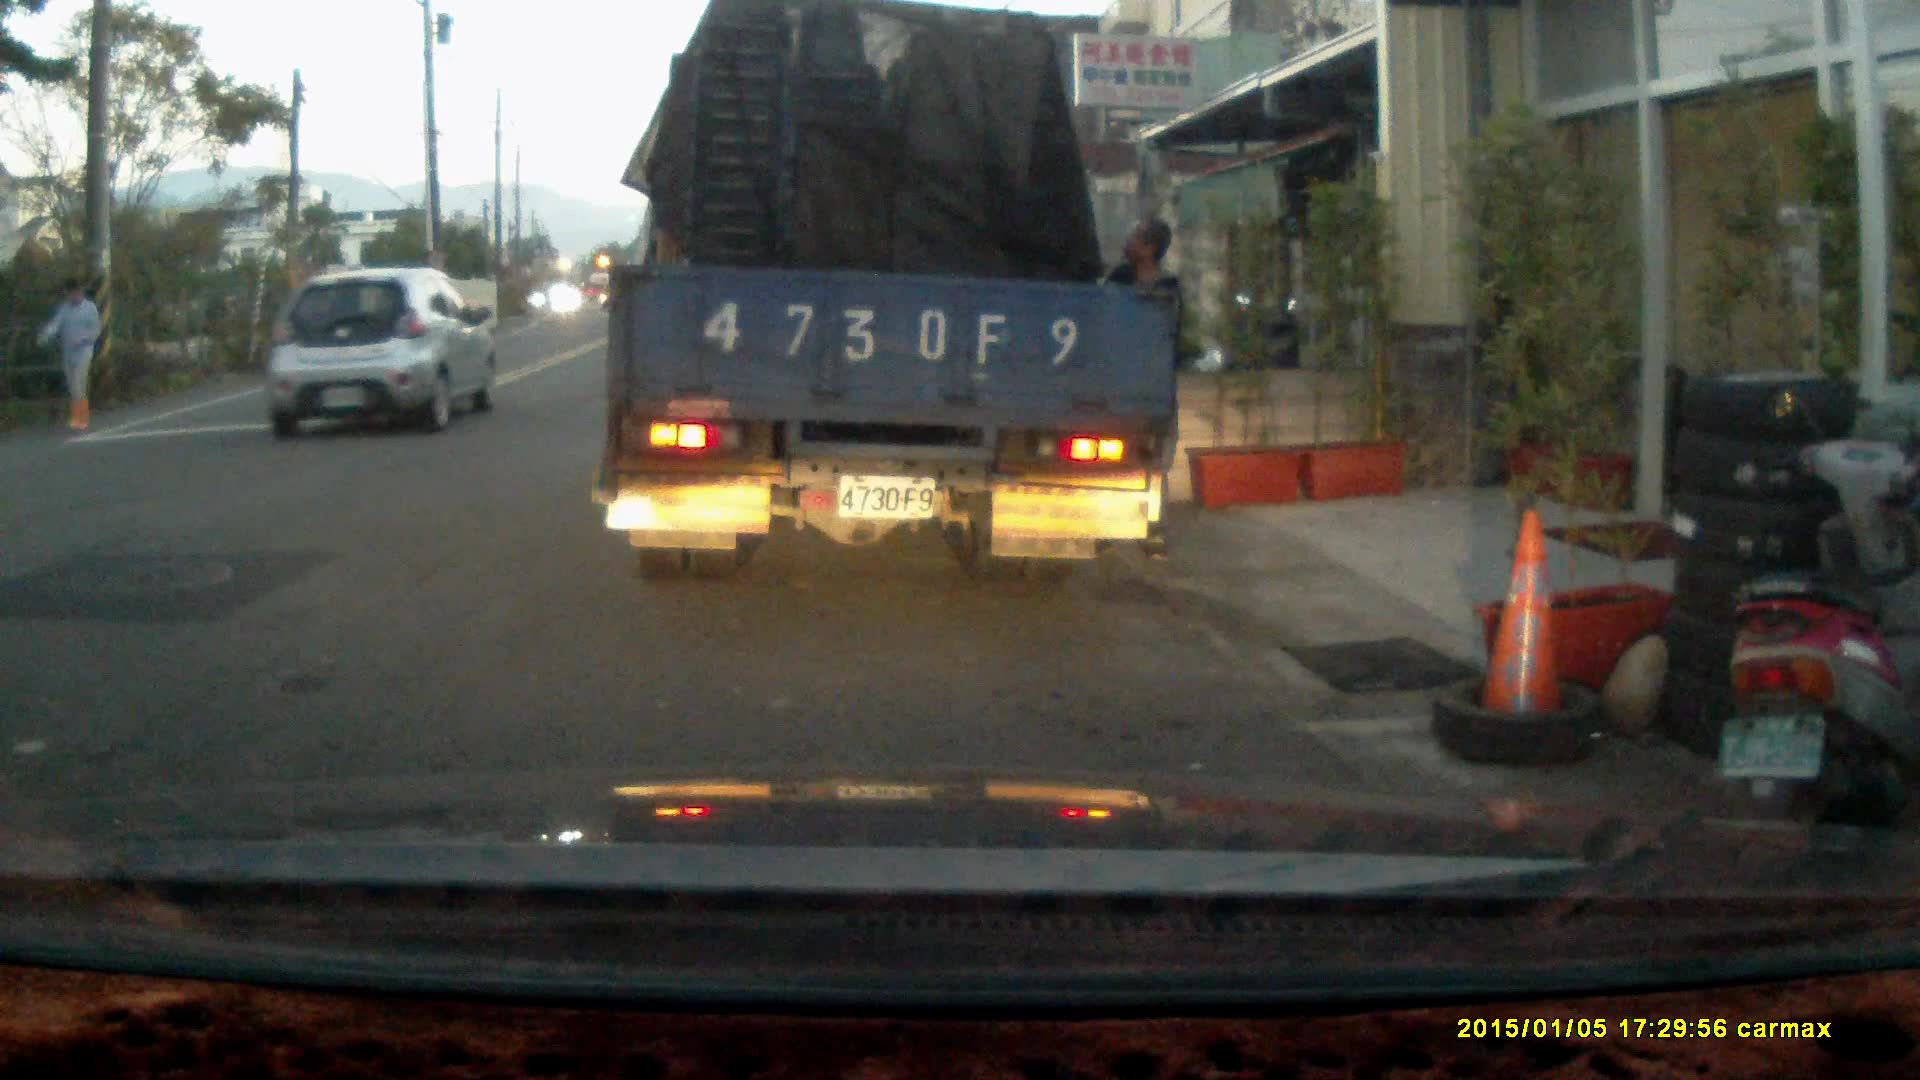pedestrian: (1086, 213, 1188, 566), (34, 277, 102, 429)
vehicle: (602, 23, 1186, 572), (263, 266, 498, 435)
